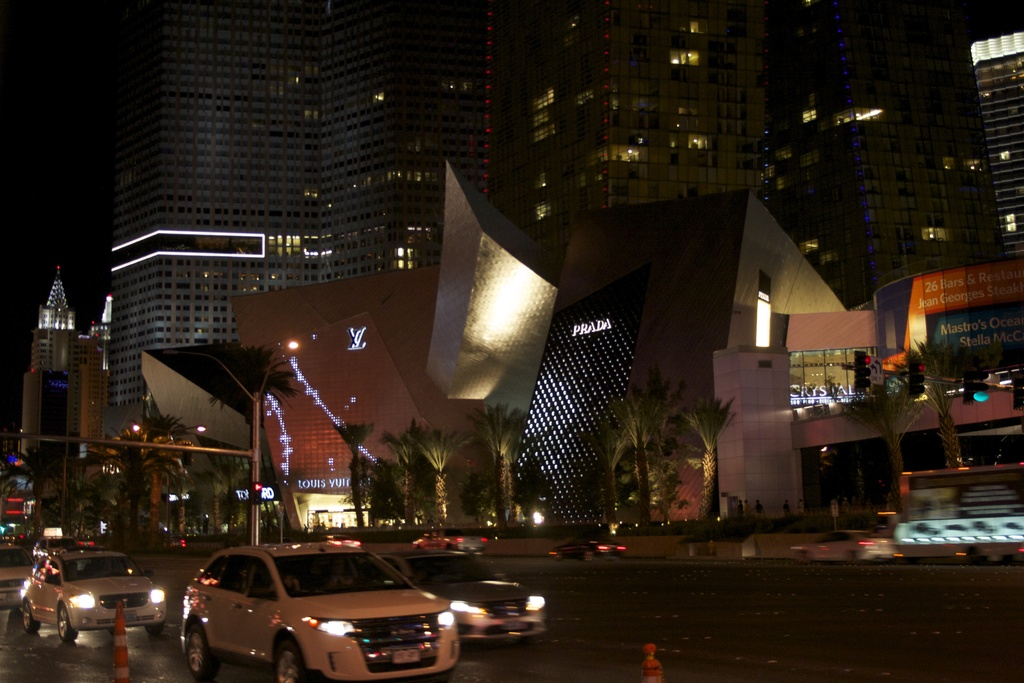Car: (160, 538, 464, 681), (377, 548, 552, 639), (22, 539, 167, 640), (789, 529, 899, 561), (0, 544, 36, 607), (542, 538, 628, 560), (411, 534, 483, 557), (33, 531, 77, 552)
